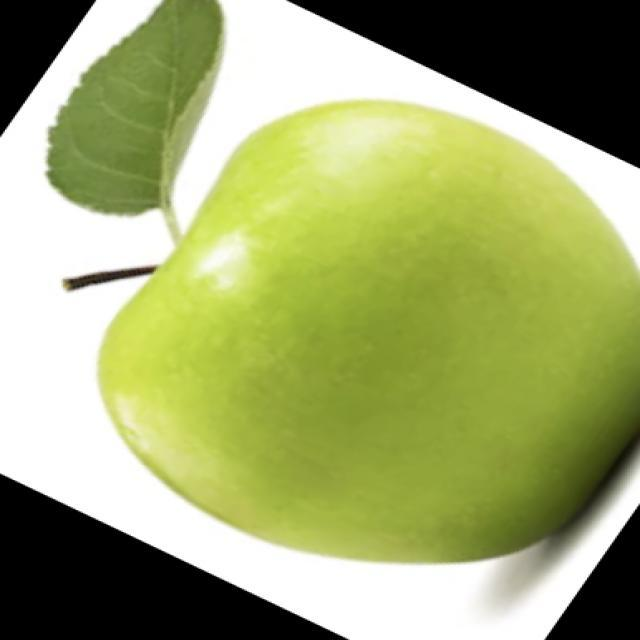Fresh Apple: (90, 105, 640, 548)
